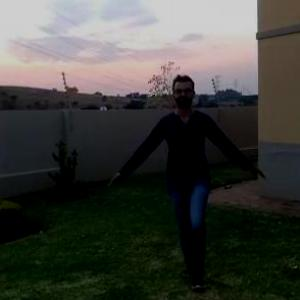land: (136, 84, 241, 266)
